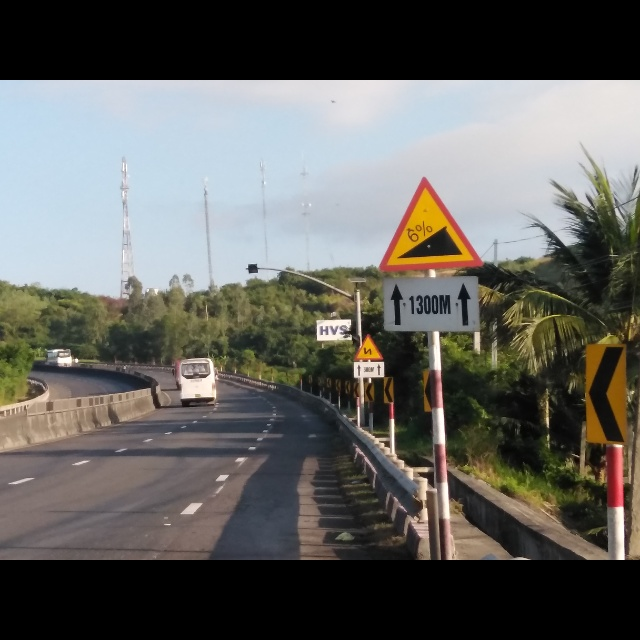Dốc lên nguy hiểm: (376, 174, 487, 272)
Ngoặt nguy hiểm liên tiếp bên phải: (353, 333, 385, 360)
